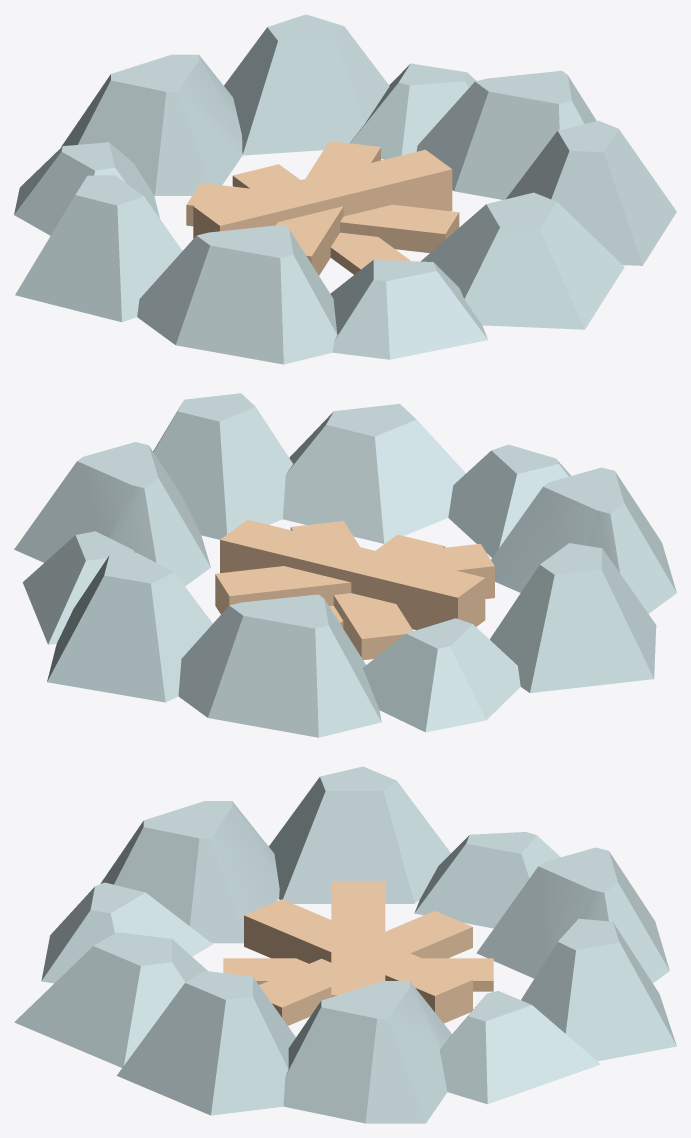
The model's file is campfire.fbx.
3 renders of one model, top to bottom at view 1: azimuth 30°, elevation 25°; view 2: azimuth 150°, elevation 25°; view 3: azimuth 270°, elevation 25°, orthographic. The views are drawn at different scales.
Parts seen in each view (by area): view 1: campfire; view 2: campfire; view 3: campfire.
Boxes of the visible parts, x1,y1,x2,y2 form: campfire: (14, 14, 676, 364); campfire: (14, 393, 676, 737); campfire: (14, 766, 676, 1123).
Bounding box in the file's own units: 541 × 79.93 × 516.
